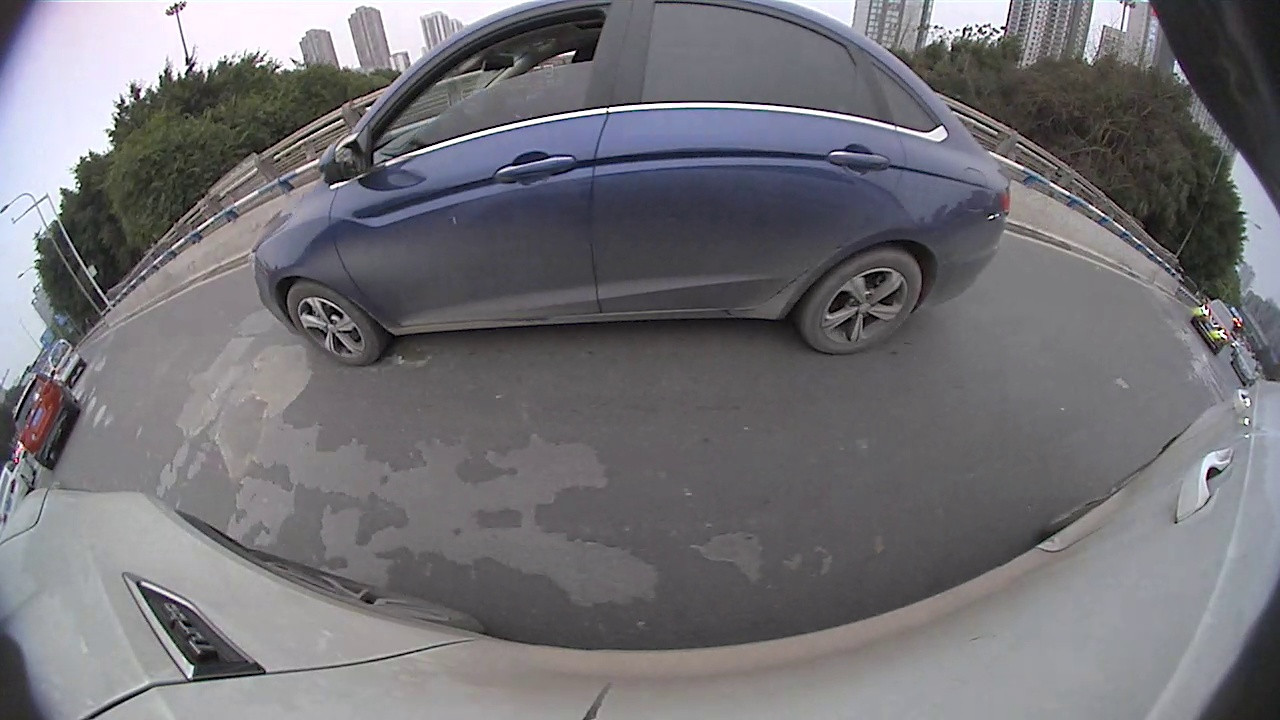car: (252, 1, 1010, 369), (11, 375, 82, 474), (1190, 297, 1234, 356), (45, 337, 85, 386)
front: (286, 277, 393, 366)
rear: (789, 245, 928, 354)
